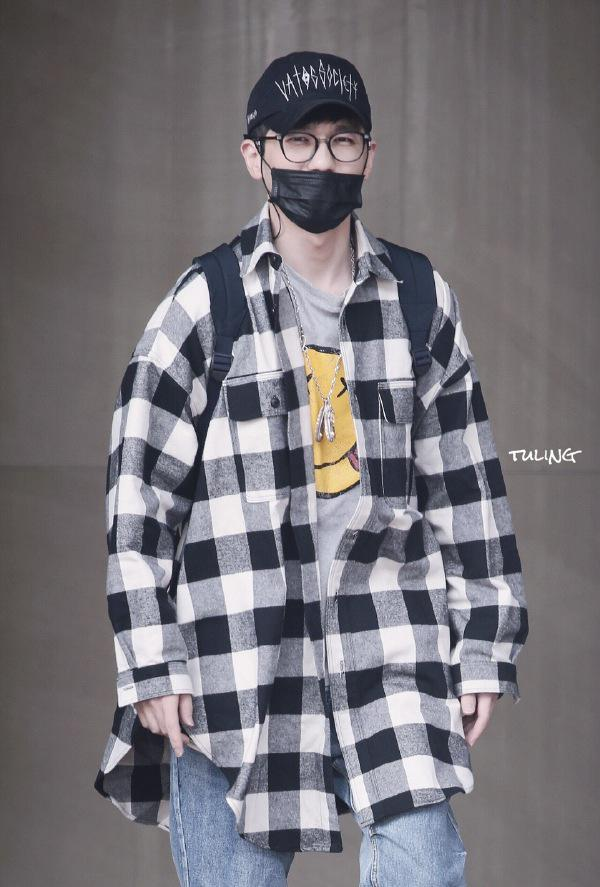WRONG: (266, 119, 367, 233)
